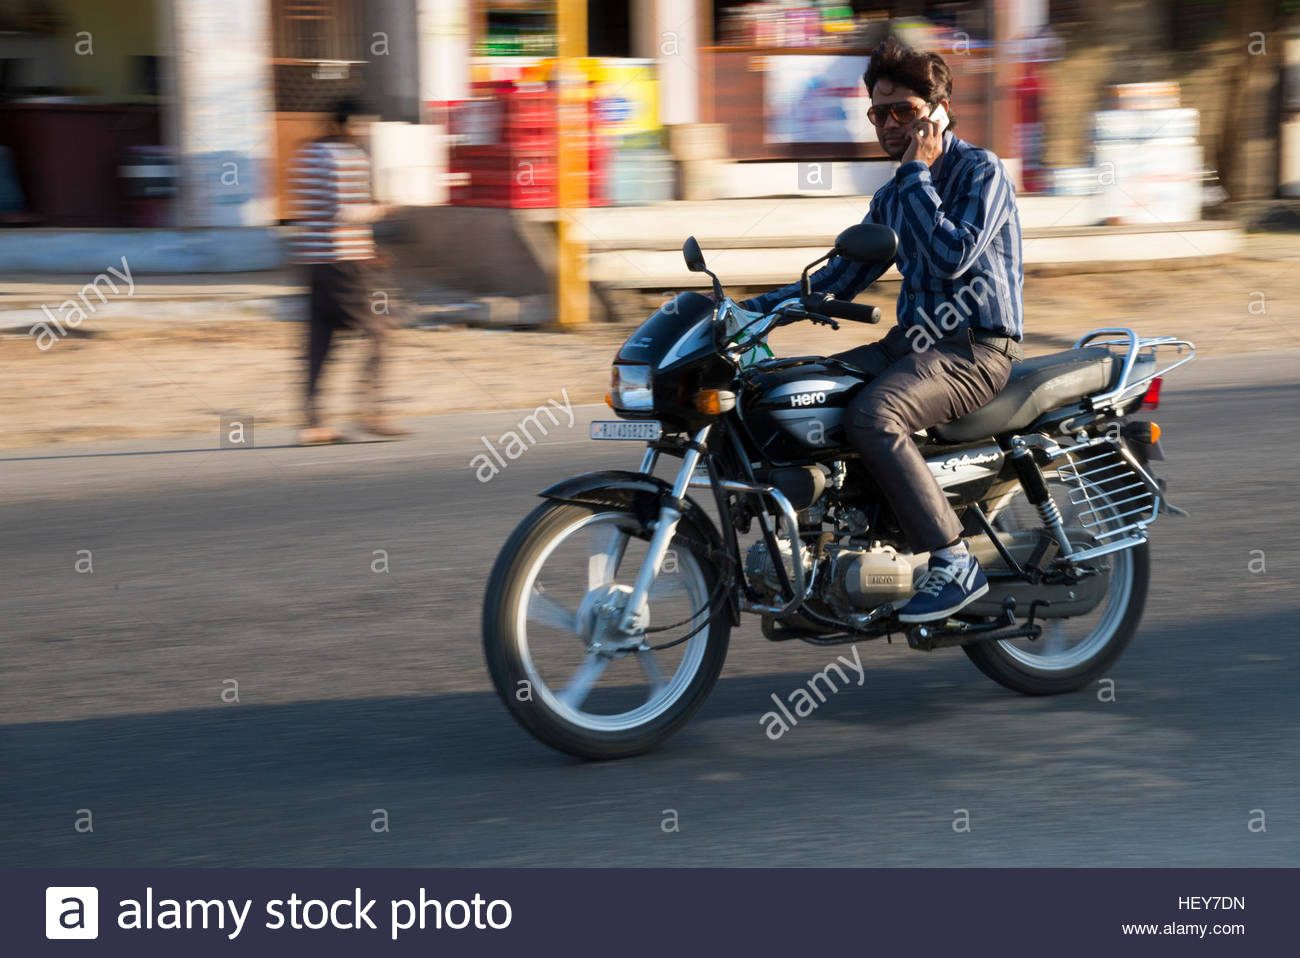dieu khien xe may: (609, 40, 1021, 576)
su dung dien thoai: (868, 44, 957, 197)
